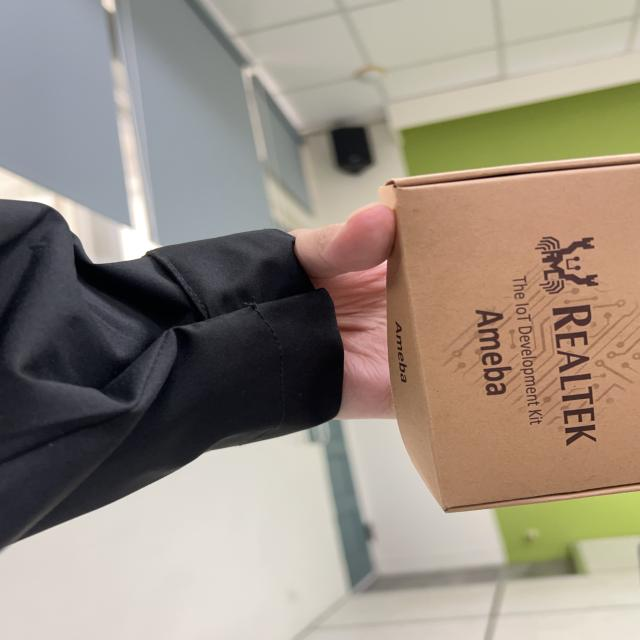box: (353, 153, 640, 526)
